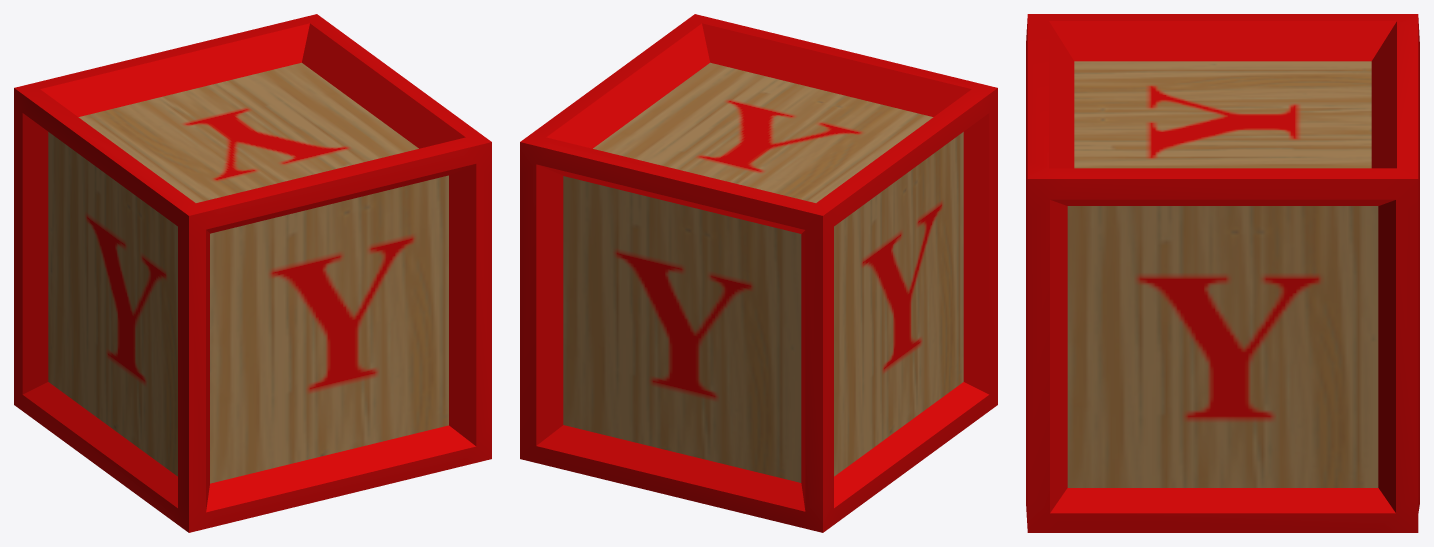
File: Letter_Y.fbx
The picture shows the model from 3 angles, left to right: view 1: azimuth 30°, elevation 25°; view 2: azimuth 150°, elevation 25°; view 3: azimuth 270°, elevation 25°; orthographic projection. The views are drawn at different scales.
Visible parts, largest first — view 1: LetterBlock_Y; view 2: LetterBlock_Y; view 3: LetterBlock_Y.
Part boxes in pixels (x1=…): LetterBlock_Y: x1=14, y1=14, x2=491, y2=532; LetterBlock_Y: x1=520, y1=14, x2=997, y2=532; LetterBlock_Y: x1=1026, y1=14, x2=1419, y2=532.
Size of the model in its own units: 0.1209 by 0.1213 by 0.121.
1 material, 1 textured.
